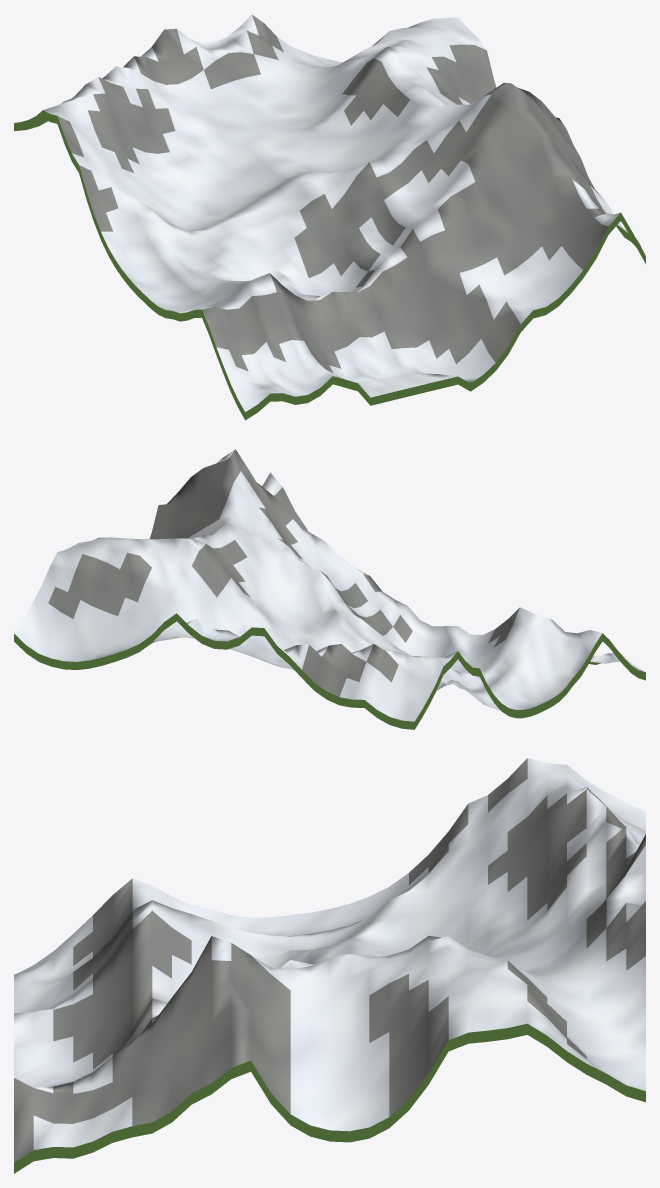
The model's file is chunk_7_0_lod1.glb.
3 renders of one model, top to bottom at view 1: azimuth 30°, elevation 25°; view 2: azimuth 150°, elevation 25°; view 3: azimuth 270°, elevation 25°, orthographic. The views are drawn at different scales.
Visible parts, largest first — view 1: Surface_Snow, Surface_Gravel, Skirt; view 2: Surface_Snow, Surface_Gravel, Skirt; view 3: Surface_Snow, Surface_Gravel, Skirt.
Part boxes in pixels (bbox=[...]): Surface_Snow: bbox=[43, 15, 627, 411]; Surface_Gravel: bbox=[57, 15, 643, 373]; Skirt: bbox=[14, 110, 645, 420]; Surface_Snow: bbox=[14, 450, 644, 721]; Surface_Gravel: bbox=[48, 449, 519, 696]; Skirt: bbox=[14, 613, 645, 729]; Surface_Snow: bbox=[14, 758, 645, 1149]; Surface_Gravel: bbox=[14, 758, 645, 1162]; Skirt: bbox=[14, 1023, 645, 1173].
Bounding box in the file's own units: 256 × 139 × 256.
